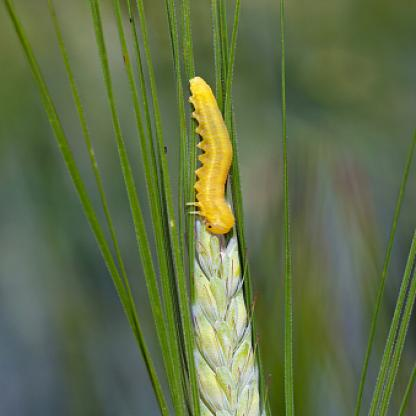sawfly: (168, 70, 244, 242)
